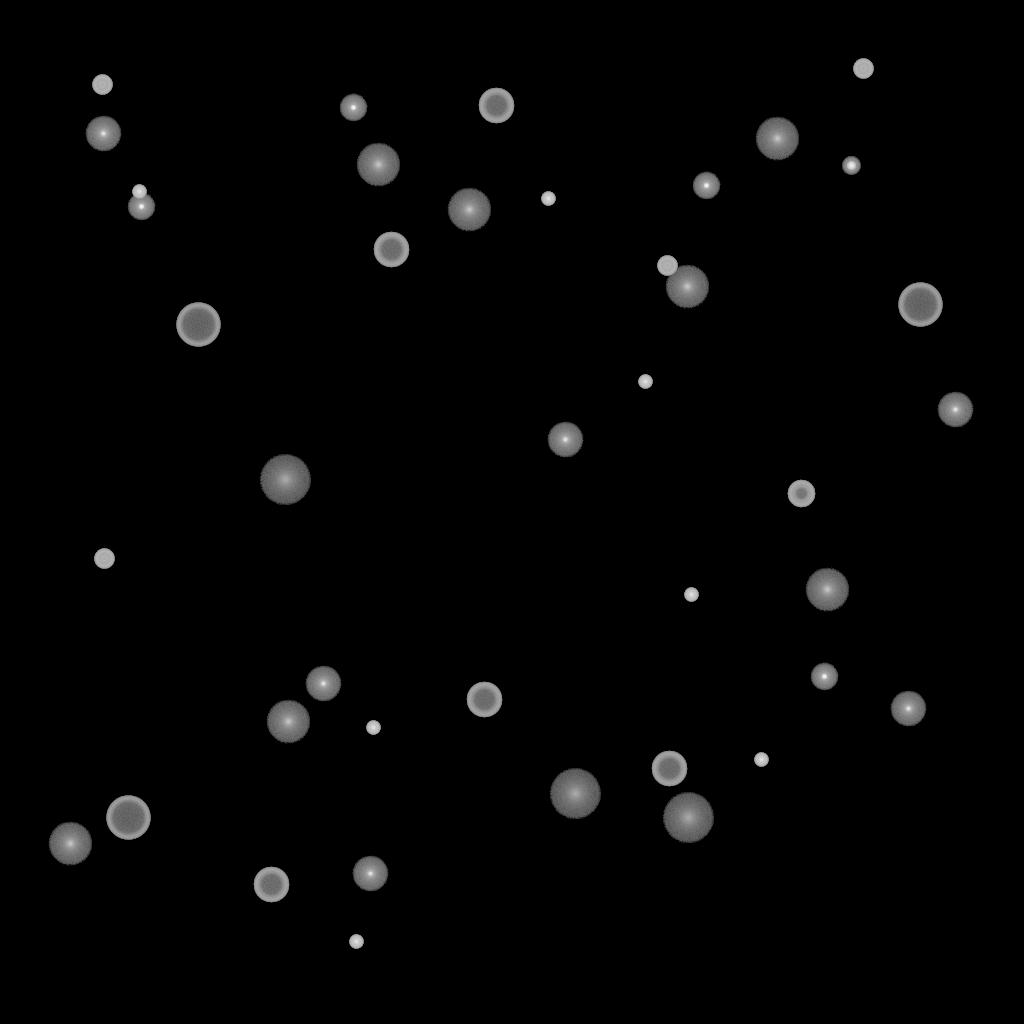depth:-10: (339, 94, 367, 122), (692, 172, 720, 200), (127, 193, 155, 221), (810, 663, 838, 691)
depth:-20: (842, 157, 860, 175)
depth:-30: (349, 935, 363, 949), (366, 721, 380, 735), (684, 588, 698, 602), (541, 192, 555, 206), (754, 753, 768, 767), (132, 185, 146, 199), (638, 375, 652, 389)
depth:-40: (94, 549, 114, 569), (853, 59, 873, 79), (657, 256, 677, 276), (92, 75, 112, 95)
depth:-50: (787, 480, 815, 508)
depth:-60: (651, 751, 687, 787), (478, 88, 514, 124), (466, 682, 502, 718), (253, 867, 289, 903), (373, 232, 409, 268)
depth:-70: (898, 283, 942, 327), (176, 303, 220, 347), (106, 796, 150, 840)
depth:0: (85, 116, 121, 152), (890, 691, 926, 727), (352, 856, 388, 892), (547, 422, 583, 458), (937, 392, 973, 428), (305, 666, 341, 702)
depth:10: (755, 117, 799, 161), (665, 265, 709, 309), (356, 143, 400, 187), (447, 188, 491, 232), (266, 700, 310, 744), (805, 568, 849, 612), (48, 822, 92, 866)
depth:20: (549, 769, 601, 819), (259, 455, 311, 505), (662, 793, 714, 843)
